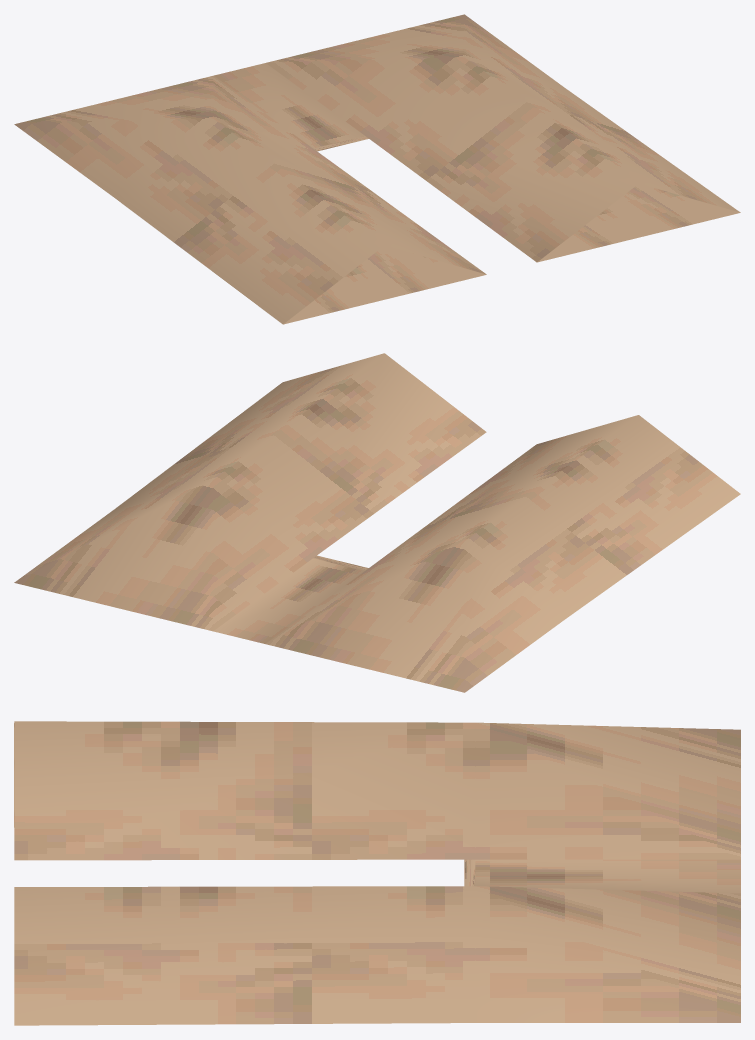
The model's file is 2113pants000_c.gltf.
3 views of the same model, one above another, from view 1: azimuth 30°, elevation 25°; view 2: azimuth 150°, elevation 25°; view 3: azimuth 270°, elevation 25° (orthographic). The views are drawn at different scales.
Parts seen in each view (by area): view 1: 2113pants000_c; view 2: 2113pants000_c; view 3: 2113pants000_c.
Boxes of the visible parts, left/top/right/bottom form: 2113pants000_c: left=14, top=14, right=740, bottom=324; 2113pants000_c: left=14, top=353, right=740, bottom=692; 2113pants000_c: left=14, top=721, right=740, bottom=1025.
Bounding box in the file's own units: 0.7793 × 0.0884 × 0.803.
1 material, 1 textured.
